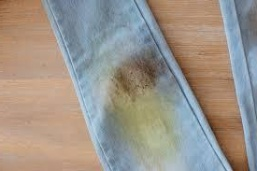earth: (113, 65, 170, 157)
